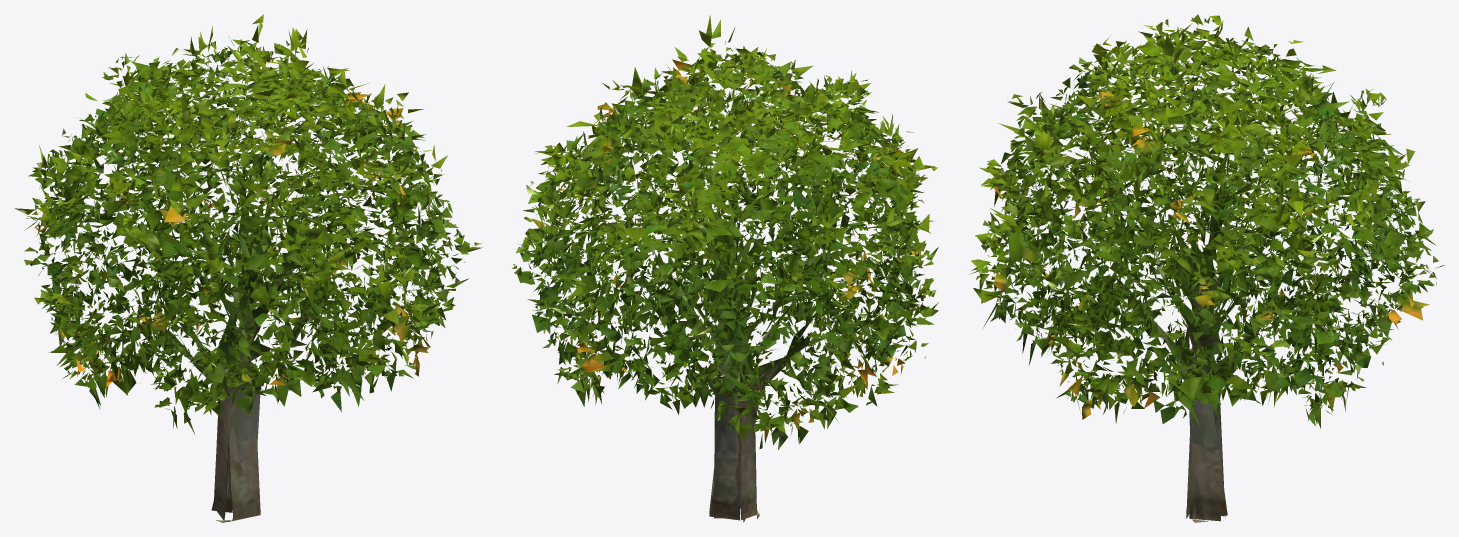
Rendered from oranger.glb.
3 views of the same model, side by side, from view 1: azimuth 30°, elevation 25°; view 2: azimuth 150°, elevation 25°; view 3: azimuth 270°, elevation 25° (orthographic). The views are drawn at different scales.
Parts seen in each view (by area): view 1: Mesh_0; view 2: Mesh_0; view 3: Mesh_0.
Part boxes in pixels (x1,y1,x2,y2): Mesh_0: (14,14,482,522); Mesh_0: (512,15,938,522); Mesh_0: (970,14,1443,522).
Size of the model in its own units: 1.62 by 1.9 by 1.65.
1 material, 1 textured.
